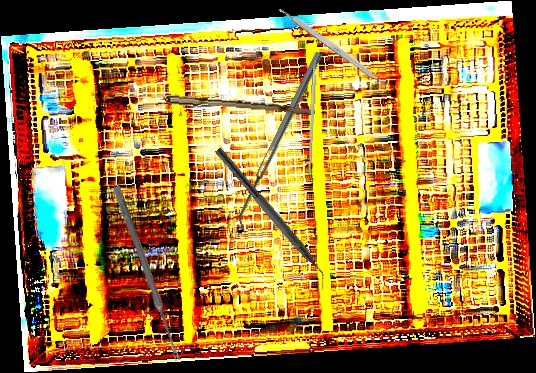Chopper: (205, 146, 336, 293)
Scalpel Handle: (276, 3, 384, 85), (306, 50, 319, 177)
Spatula Surgical: (231, 51, 330, 232)
Surgical Spoon: (111, 185, 183, 362), (114, 91, 316, 115)
